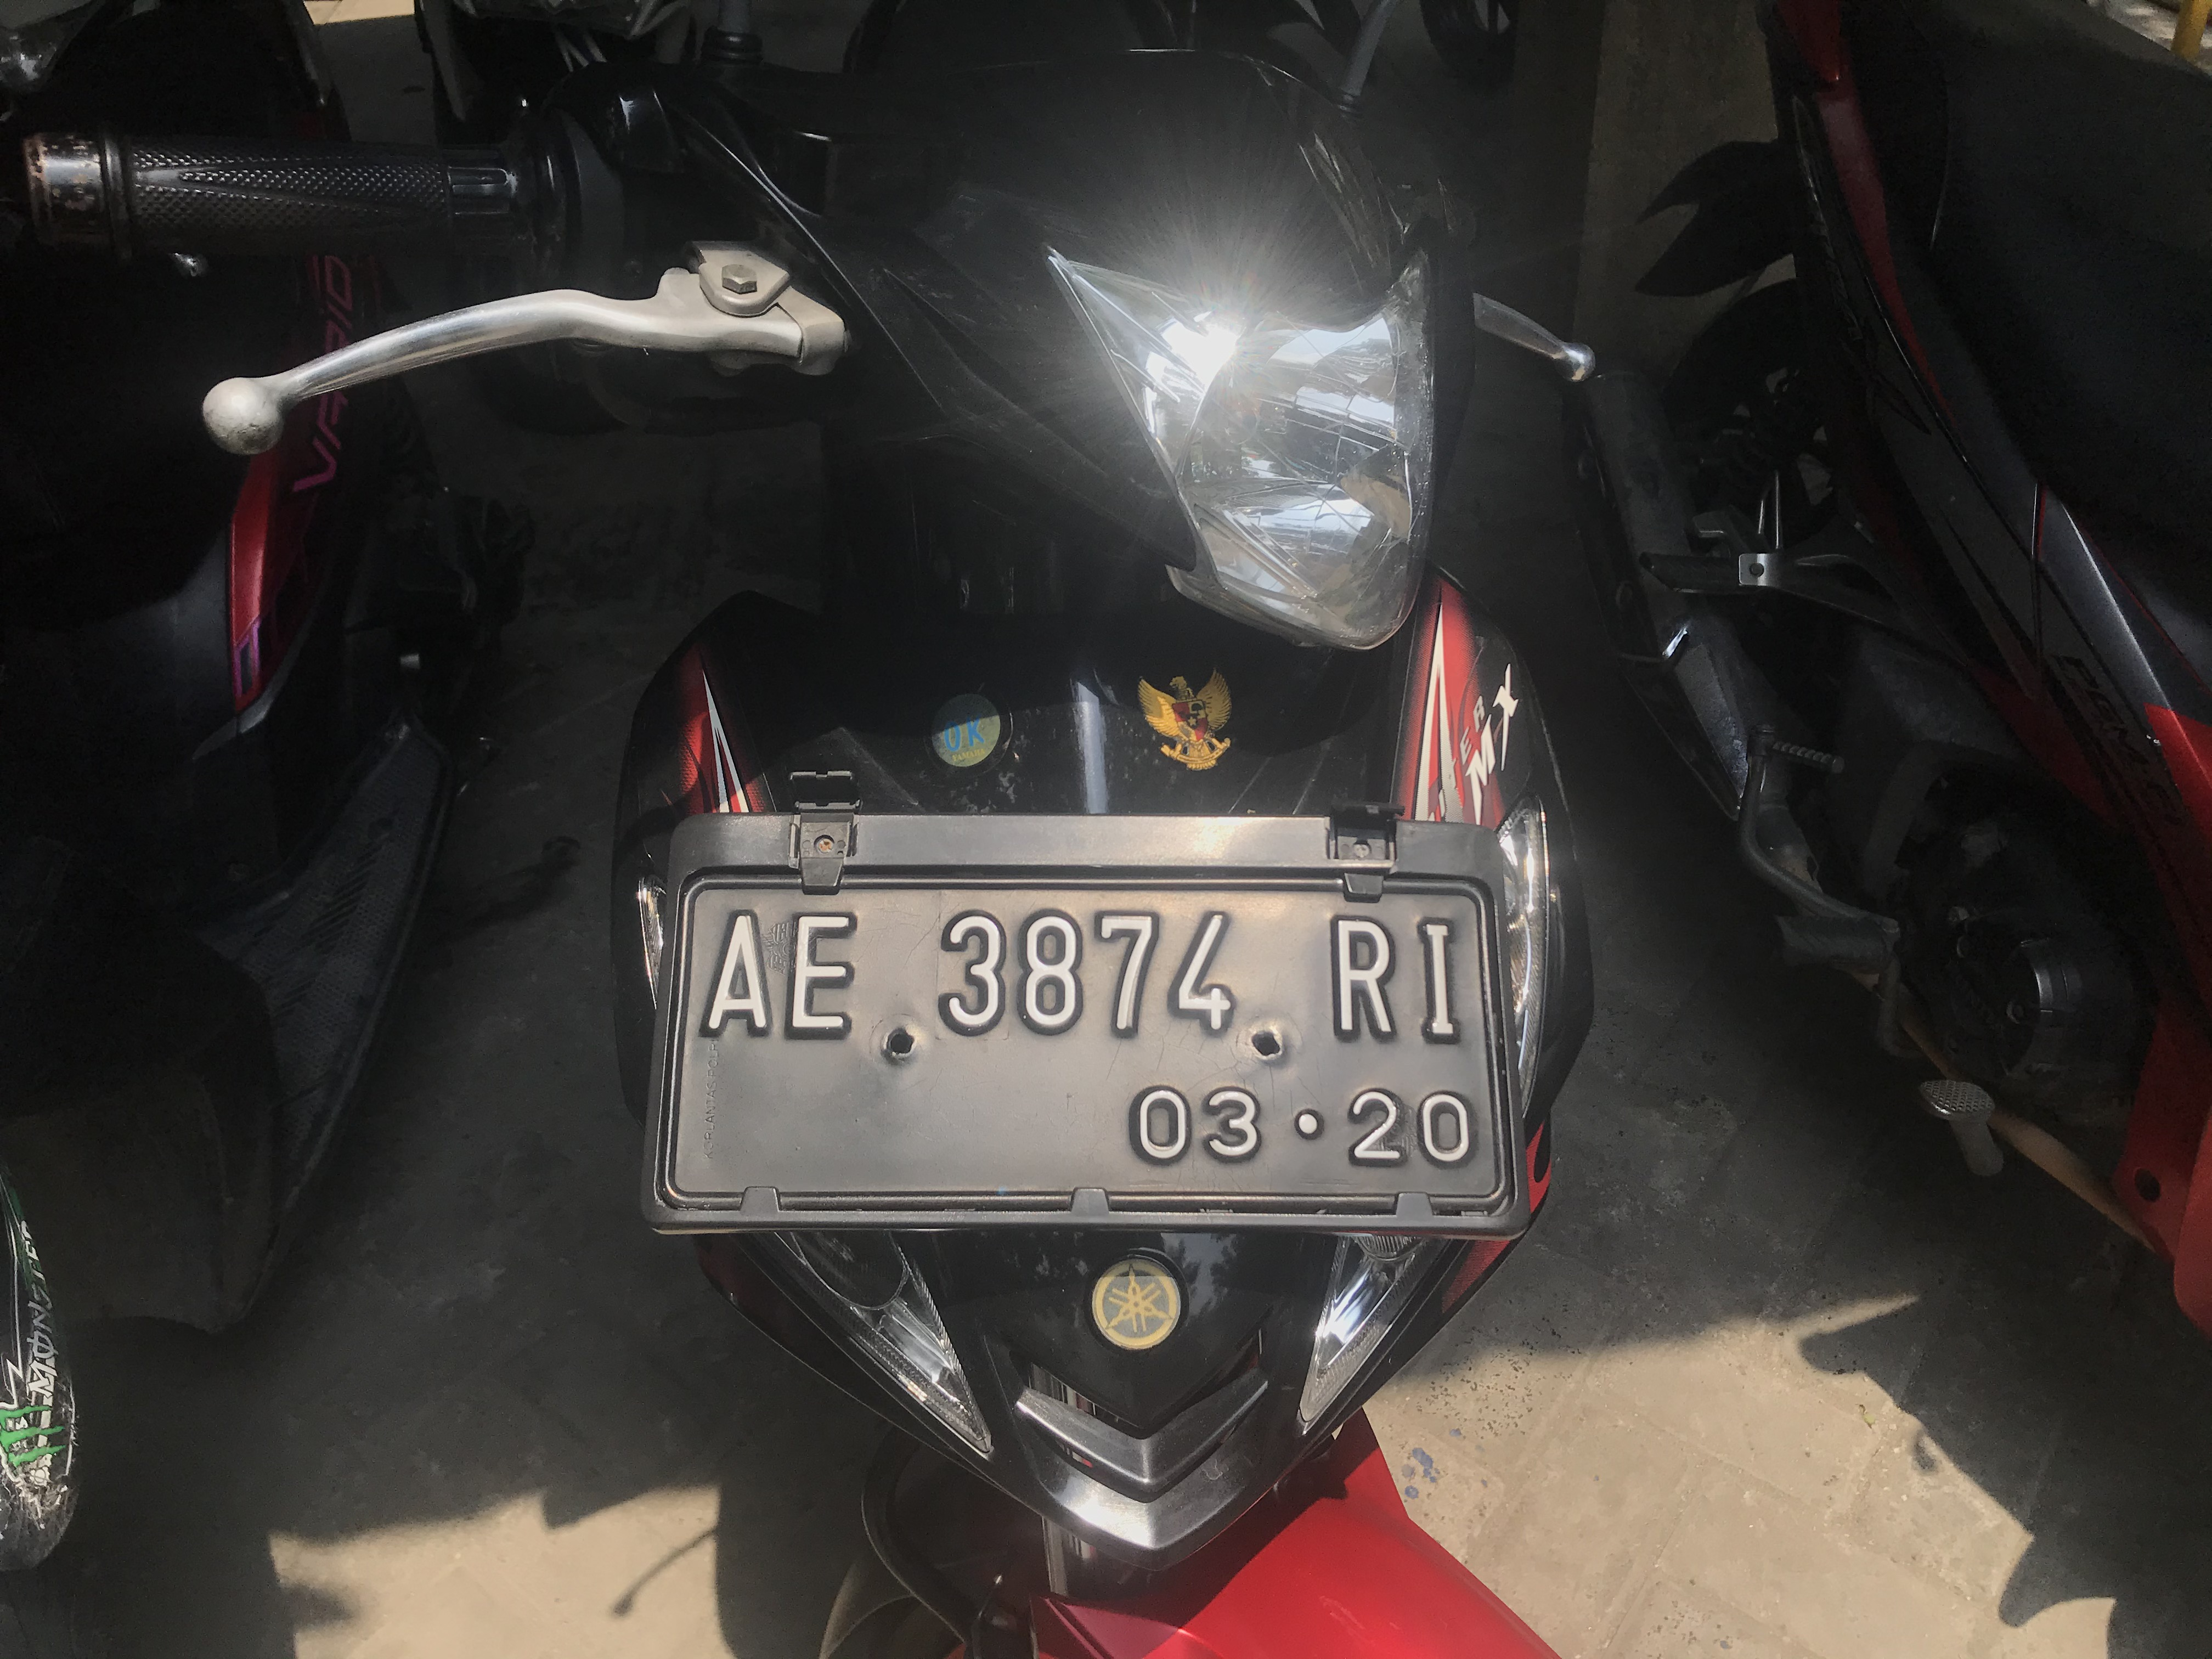plate: (670, 876, 1519, 1231)
